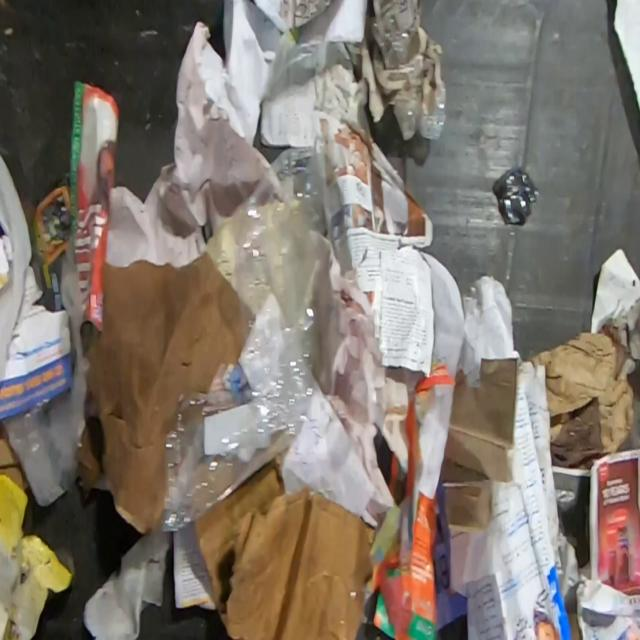cardboard: (192, 452, 378, 640), (440, 356, 518, 534), (0, 473, 73, 640)
rigid_plastic: (490, 163, 540, 227)
soft_plastic: (160, 139, 331, 534), (2, 249, 92, 509), (368, 5, 448, 142), (0, 153, 33, 381)
